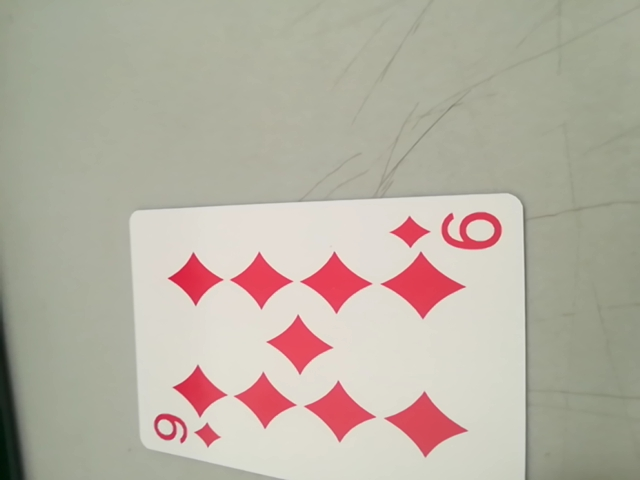fk 9: (388, 203, 508, 259), (143, 407, 228, 454)
